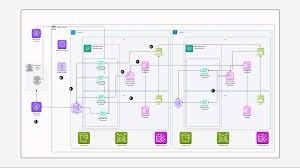aurora: (257, 132, 269, 144), (155, 132, 167, 144)
s3: (179, 132, 191, 144), (78, 132, 90, 144)
transfer family: (217, 132, 229, 144), (116, 132, 127, 143)
